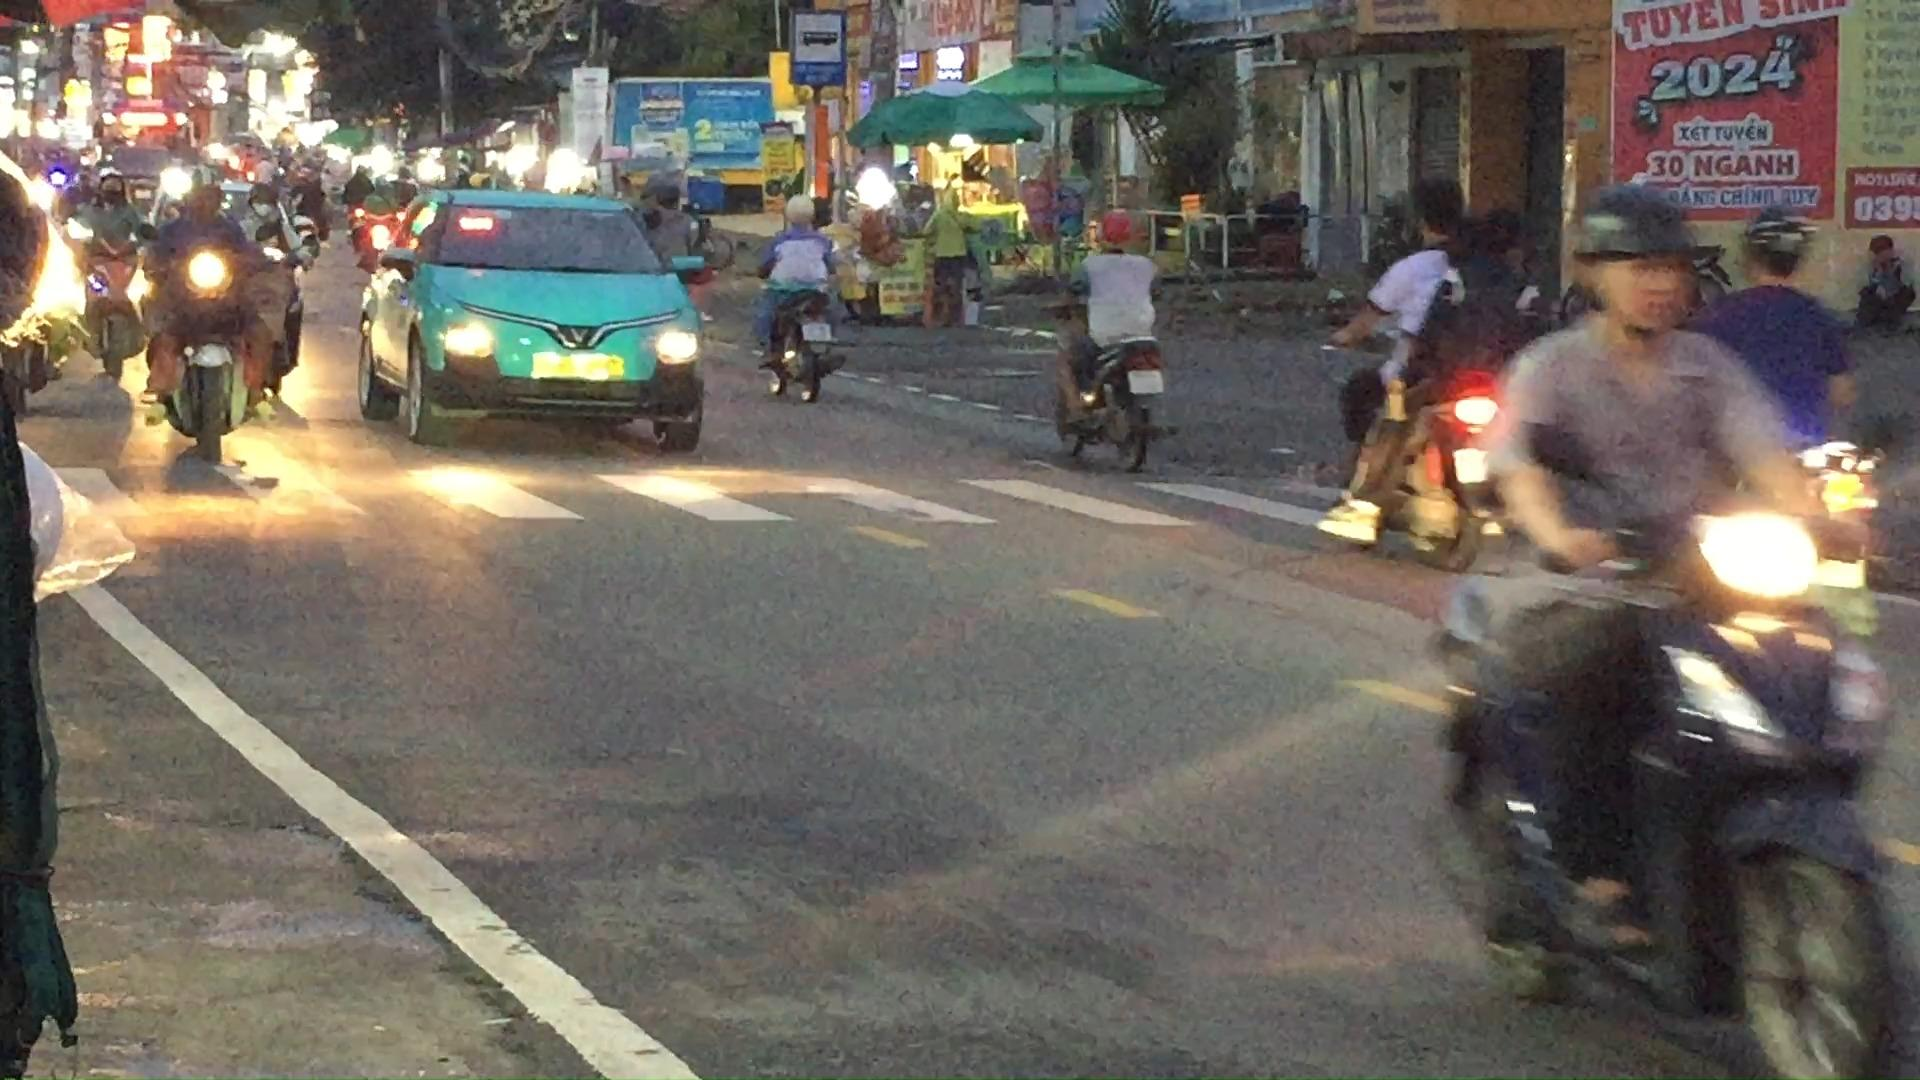bien_so: (530, 349, 625, 381), (1126, 367, 1166, 396)
